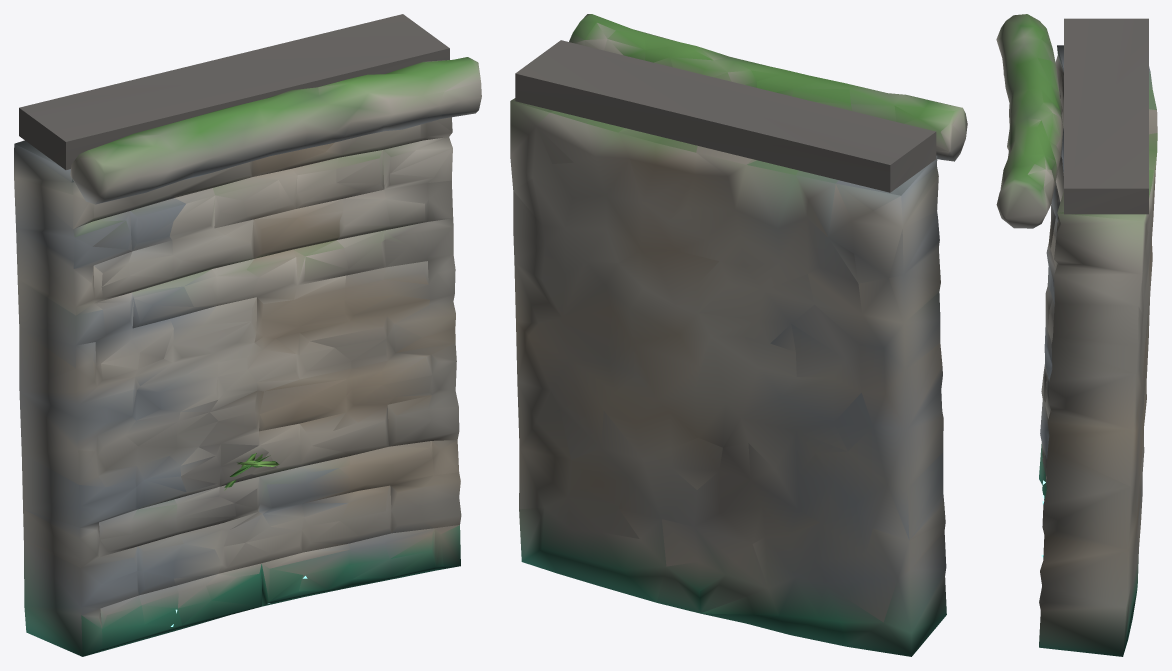
File: grotto_basin_wall_b_lod2.glb
3 views of the same model, side by side, from view 1: azimuth 30°, elevation 25°; view 2: azimuth 150°, elevation 25°; view 3: azimuth 270°, elevation 25° (orthographic). The views are drawn at different scales.
Parts seen in each view (by area): view 1: grotto_basin_wall_b.001; view 2: grotto_basin_wall_b.001; view 3: grotto_basin_wall_b.001.
Boxes of the visible parts, x1,y1,x2,y2 form: grotto_basin_wall_b.001: (14, 14, 481, 656); grotto_basin_wall_b.001: (510, 14, 967, 656); grotto_basin_wall_b.001: (996, 14, 1157, 656).
Size of the model in its own units: 29.71 by 36.88 by 11.38.
